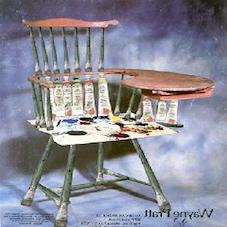chair: (12, 12, 170, 221)
